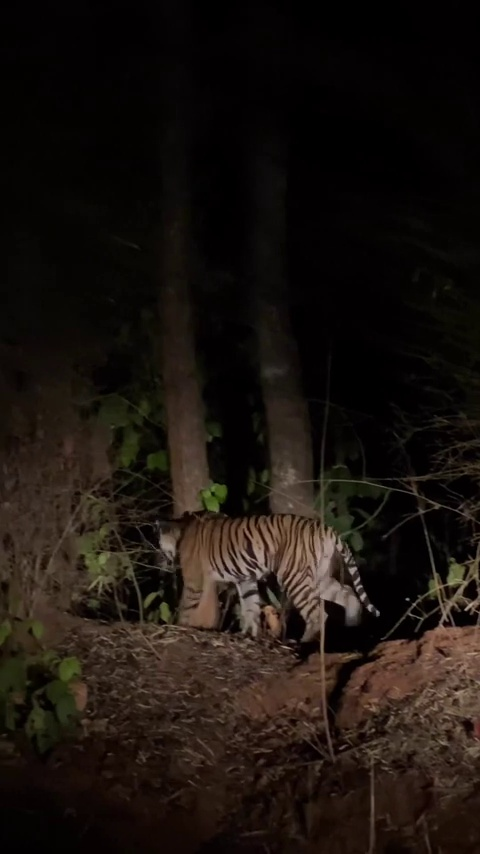Tiger: (155, 509, 381, 646)
